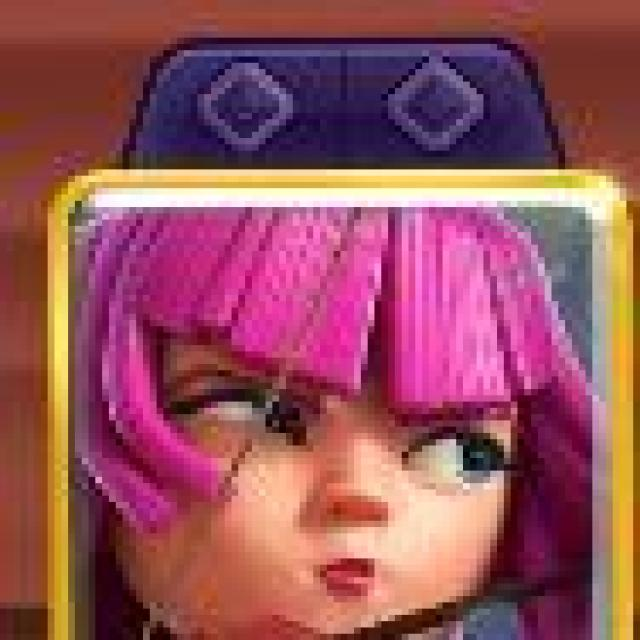Archers: (43, 167, 634, 640)
